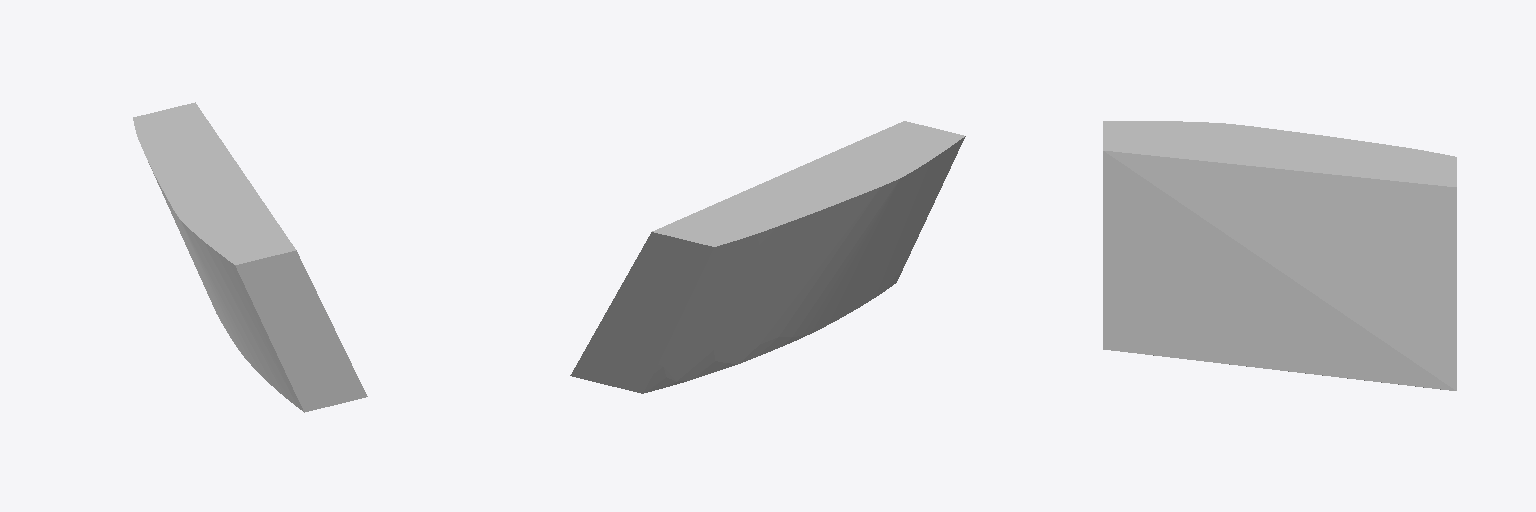
The model's file is skillet_collision_5.obj.
3 views of the same model, side by side, from view 1: azimuth 30°, elevation 25°; view 2: azimuth 150°, elevation 25°; view 3: azimuth 270°, elevation 25° (orthographic).
Bounding box in the file's own units: 0.0306 × 0.0219 × 0.0428.